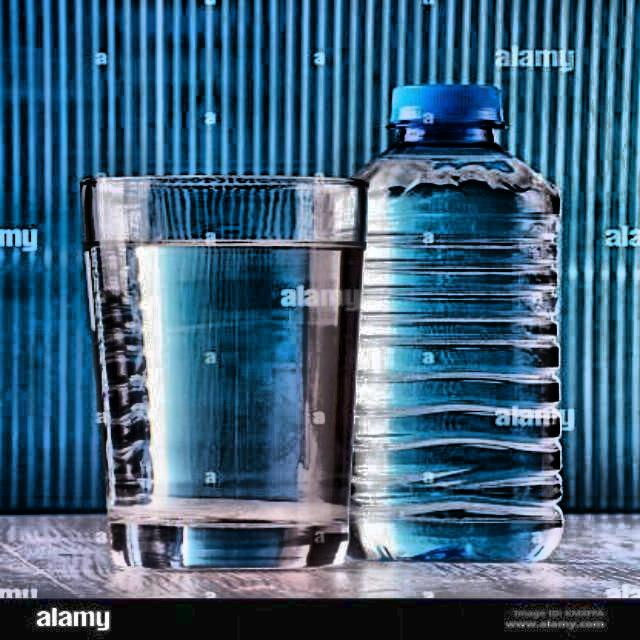Bottles: (340, 75, 568, 578)
